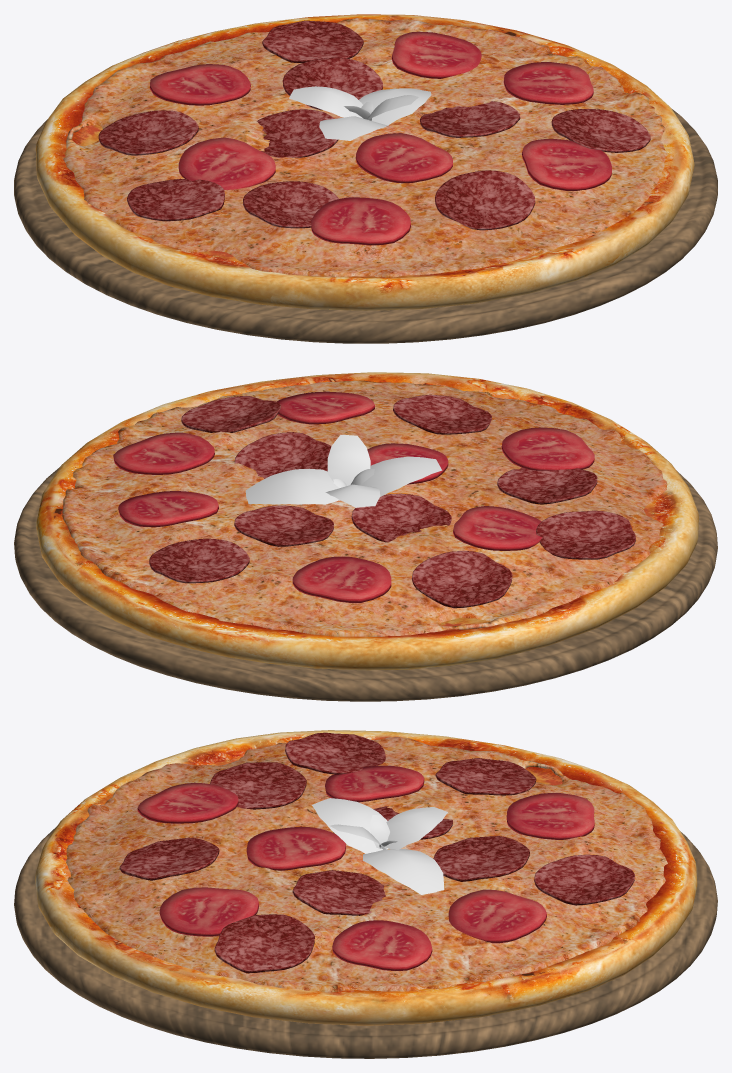
The model's file is uploads_files_2009605_Pizza_FBX.fbx.
3 views of the same model, one above another, from view 1: azimuth 30°, elevation 25°; view 2: azimuth 150°, elevation 25°; view 3: azimuth 270°, elevation 25° (orthographic).
Visible parts, largest first — view 1: Cheese, Pizza, Salami, Wood_deck, Tomatoes, Leaves; view 2: Cheese, Pizza, Salami, Wood_deck, Tomatoes, Leaves; view 3: Cheese, Pizza, Salami, Wood_deck, Tomatoes, Leaves.
Part boxes in pixels (left/top/right/bottom): Cheese: left=63, top=18, right=667, bottom=277; Pizza: left=35, top=14, right=694, bottom=310; Salami: left=98, top=20, right=650, bottom=230; Wood_deck: left=14, top=109, right=717, bottom=343; Tomatoes: left=150, top=31, right=611, bottom=245; Leaves: left=289, top=86, right=431, bottom=140; Cheese: left=62, top=380, right=667, bottom=636; Pizza: left=36, top=372, right=698, bottom=670; Salami: left=149, top=394, right=635, bottom=608; Wood_deck: left=14, top=466, right=717, bottom=701; Tomatoes: left=113, top=391, right=594, bottom=602; Leaves: left=245, top=435, right=442, bottom=507; Cheese: left=66, top=737, right=667, bottom=992; Pizza: left=35, top=730, right=697, bottom=1025; Salami: left=119, top=732, right=634, bottom=973; Wood_deck: left=14, top=826, right=717, bottom=1058; Tomatoes: left=137, top=765, right=594, bottom=970; Leaves: left=312, top=798, right=447, bottom=894.
Size of the model in its own units: 60.1 by 9.54 by 60.1.
